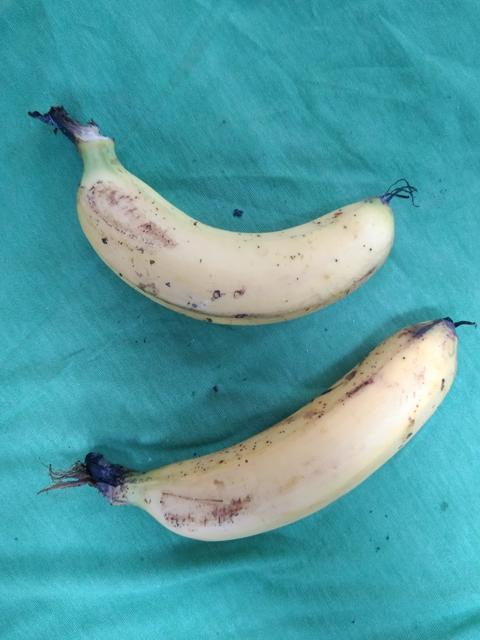ripe: (136, 296, 478, 548), (69, 144, 418, 336)
